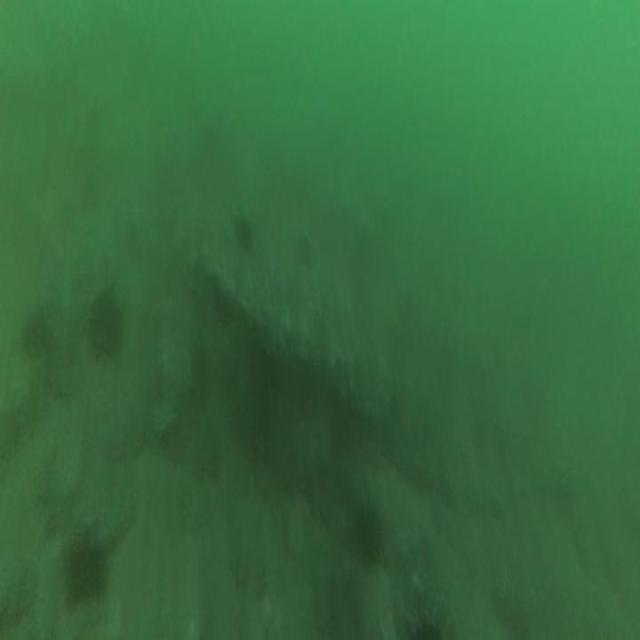echinus: (64, 539, 104, 604), (356, 510, 382, 566), (94, 297, 124, 345)
